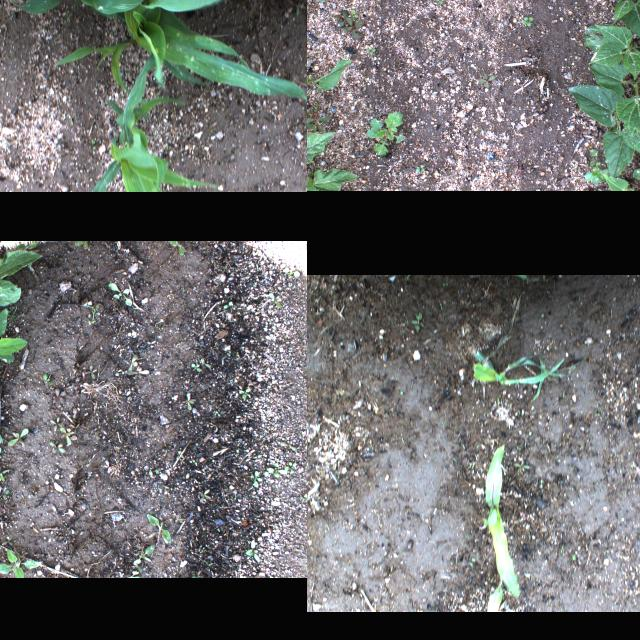crop: (10, 0, 307, 106), (84, 53, 243, 192), (567, 61, 640, 183), (483, 438, 522, 612), (468, 348, 568, 407), (307, 53, 351, 127), (0, 247, 42, 324), (583, 24, 640, 80), (307, 159, 360, 191), (307, 119, 336, 176), (608, 0, 640, 42)
weed: (0, 308, 27, 380), (367, 111, 403, 155), (0, 548, 38, 578), (144, 514, 170, 546), (584, 160, 610, 188), (307, 102, 328, 131), (108, 282, 132, 306), (132, 542, 154, 566), (603, 173, 633, 190), (342, 16, 362, 38), (6, 427, 28, 447), (79, 304, 99, 324), (264, 462, 286, 478), (408, 312, 424, 332), (167, 240, 186, 256), (476, 73, 494, 89), (244, 548, 260, 564), (248, 470, 262, 488), (124, 354, 138, 372), (181, 392, 195, 410), (267, 292, 281, 308), (196, 488, 212, 502), (52, 388, 66, 404), (58, 427, 70, 445), (49, 441, 66, 453), (40, 372, 54, 386), (72, 240, 91, 250), (126, 366, 148, 374), (65, 116, 77, 130), (49, 417, 61, 431), (278, 442, 296, 451), (238, 386, 250, 399), (284, 462, 296, 474), (84, 366, 96, 378), (290, 5, 304, 15), (0, 468, 9, 482), (190, 362, 202, 372), (0, 536, 12, 546), (16, 242, 36, 248), (88, 136, 96, 150), (523, 16, 533, 26), (200, 357, 210, 367), (89, 430, 99, 440), (68, 424, 78, 434), (130, 565, 142, 573), (222, 300, 232, 308), (148, 468, 158, 476), (172, 514, 182, 522), (298, 493, 307, 501), (2, 488, 8, 499), (190, 458, 197, 467), (128, 572, 138, 578), (234, 448, 240, 457), (213, 409, 220, 416), (225, 348, 231, 356), (196, 544, 202, 552), (130, 304, 138, 310), (287, 270, 293, 276), (179, 458, 185, 464), (190, 574, 198, 578), (207, 562, 213, 566), (200, 548, 204, 552), (132, 550, 136, 552)
